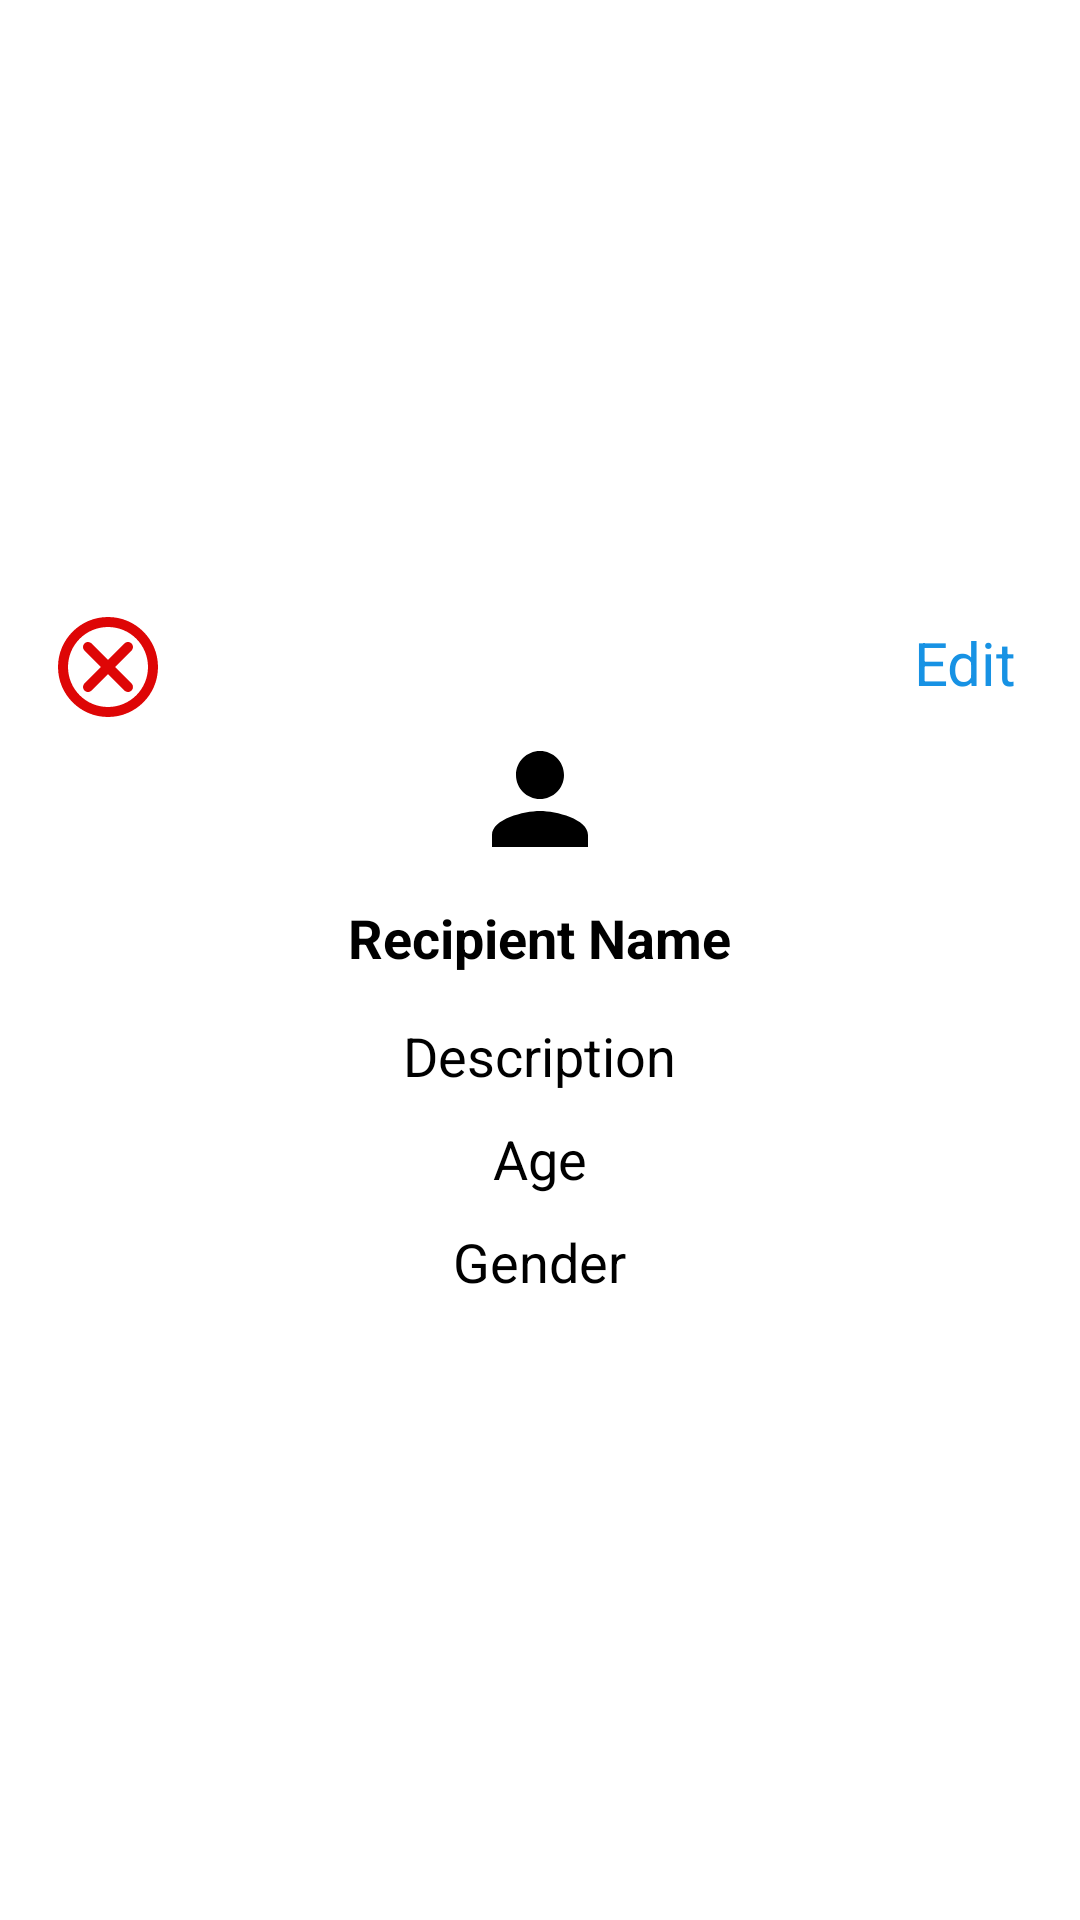

Where to tap for icons on this 1080px×1920px app screen, as (x,y):
person: (540,799)
remove: (108,667)
